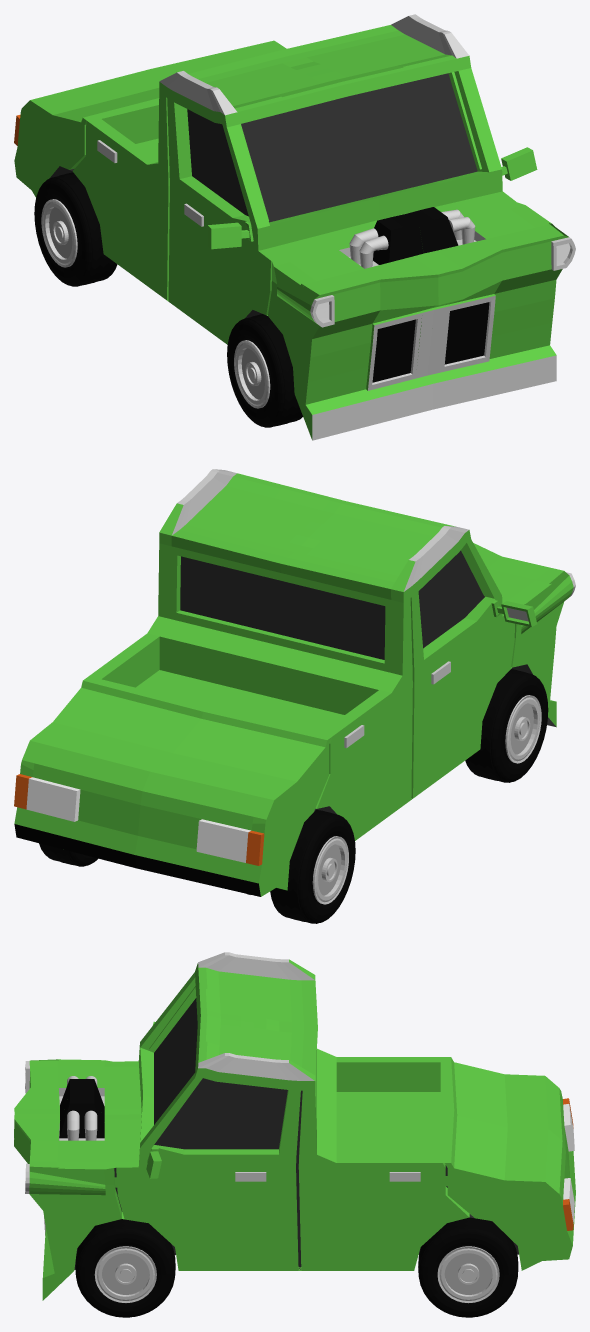
3 renders of one model, top to bottom at view 1: azimuth 30°, elevation 25°; view 2: azimuth 150°, elevation 25°; view 3: azimuth 270°, elevation 25°, orthographic. The views are drawn at different scales.
Parts seen in each view (by area): view 1: BODY43, WHEEL.004, WHEEL.001; view 2: BODY43, WHEEL.004, WHEEL.001, WHEEL.002; view 3: BODY43, WHEEL.002, WHEEL.003.
Part boxes in pixels (bbox=[...]): BODY43: bbox=[14, 14, 575, 440]; WHEEL.004: bbox=[34, 172, 117, 286]; WHEEL.001: bbox=[227, 314, 302, 427]; BODY43: bbox=[14, 469, 575, 896]; WHEEL.004: bbox=[270, 809, 355, 923]; WHEEL.001: bbox=[465, 669, 548, 782]; WHEEL.002: bbox=[39, 843, 97, 866]; BODY43: bbox=[14, 952, 575, 1300]; WHEEL.002: bbox=[418, 1217, 518, 1317]; WHEEL.003: bbox=[75, 1219, 175, 1317].
Size of the model in its own units: 131 by 111 by 219.
